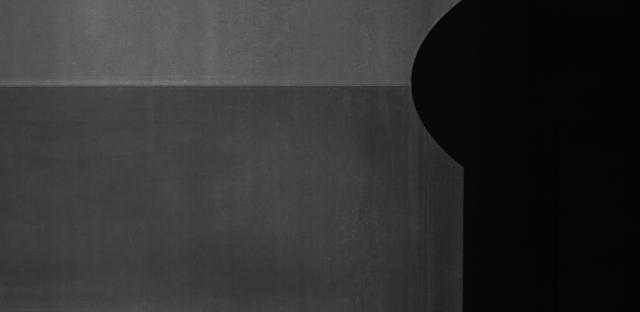welding_line: (1, 76, 427, 102)
